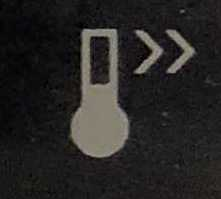temperature: (28, 14, 206, 168)
